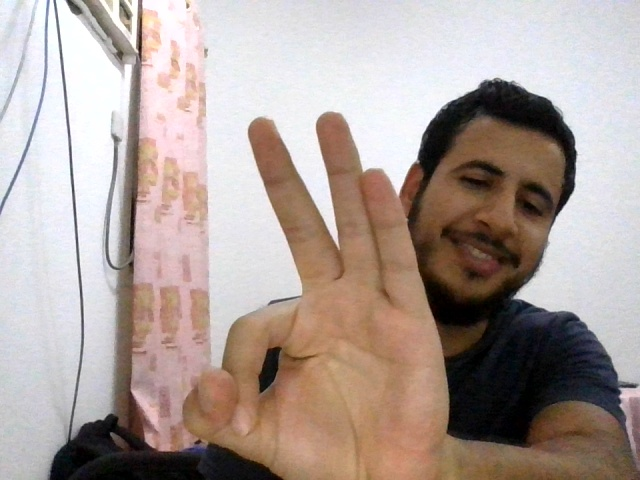Three: (183, 111, 448, 480)
